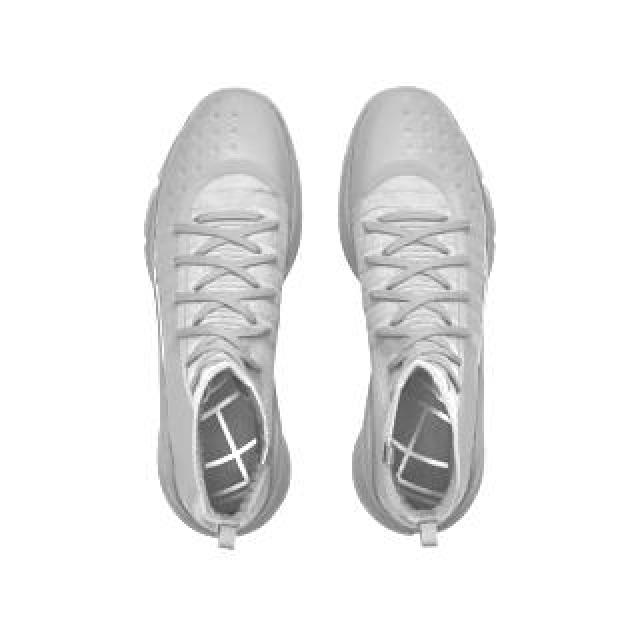shoe: (142, 85, 302, 541), (338, 85, 498, 537)
